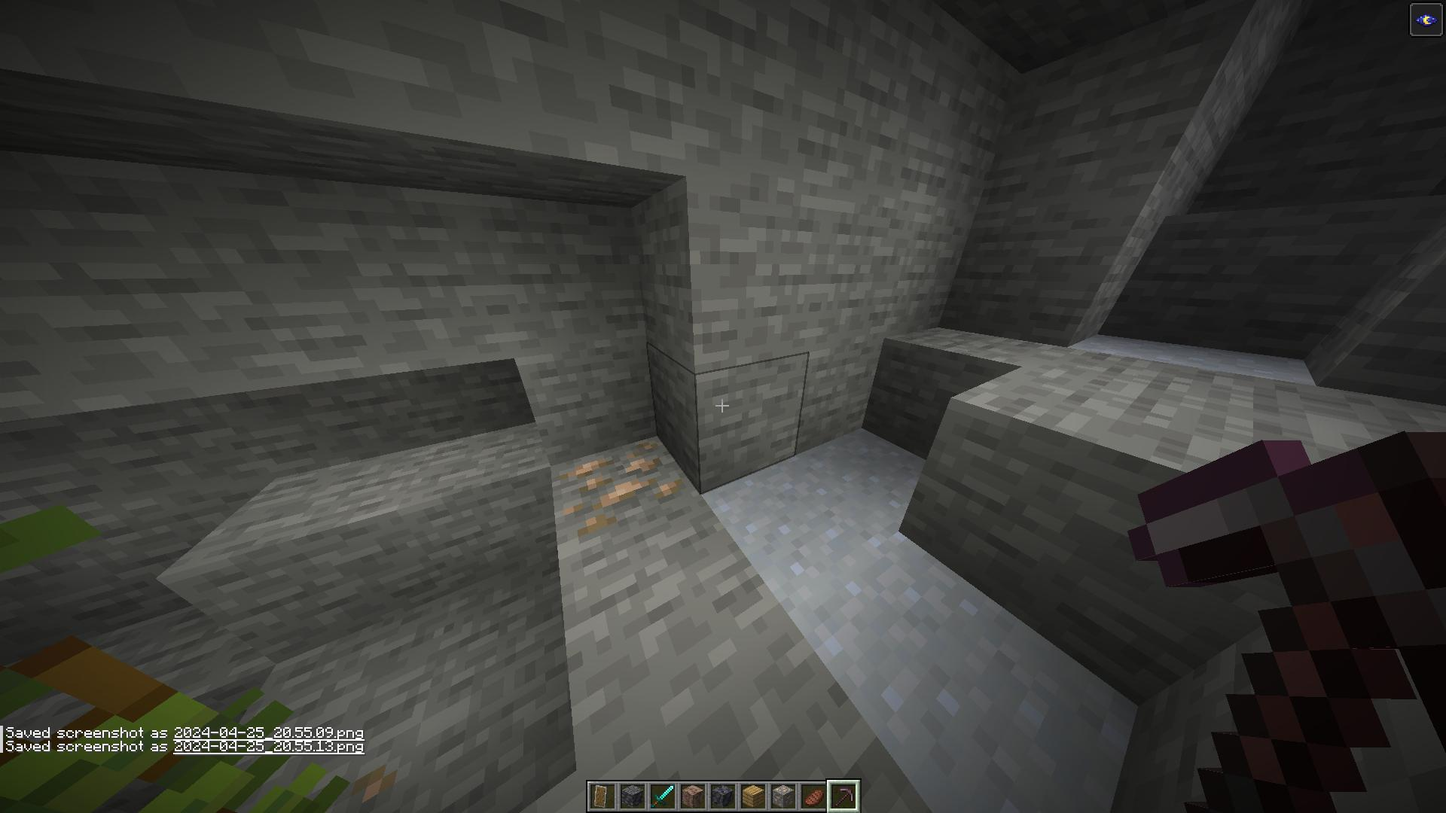iron ore: (556, 441, 691, 536)
